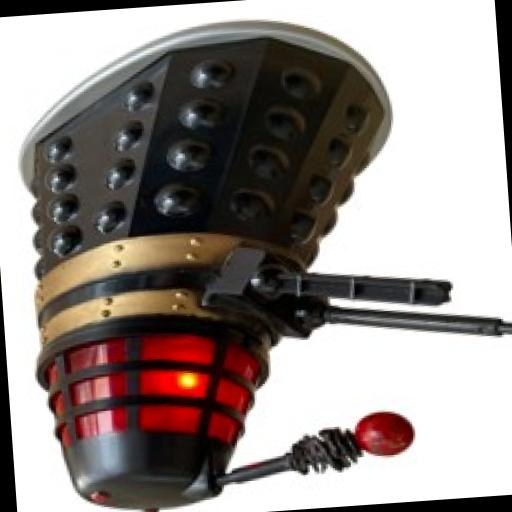dalek: (7, 3, 512, 512)
